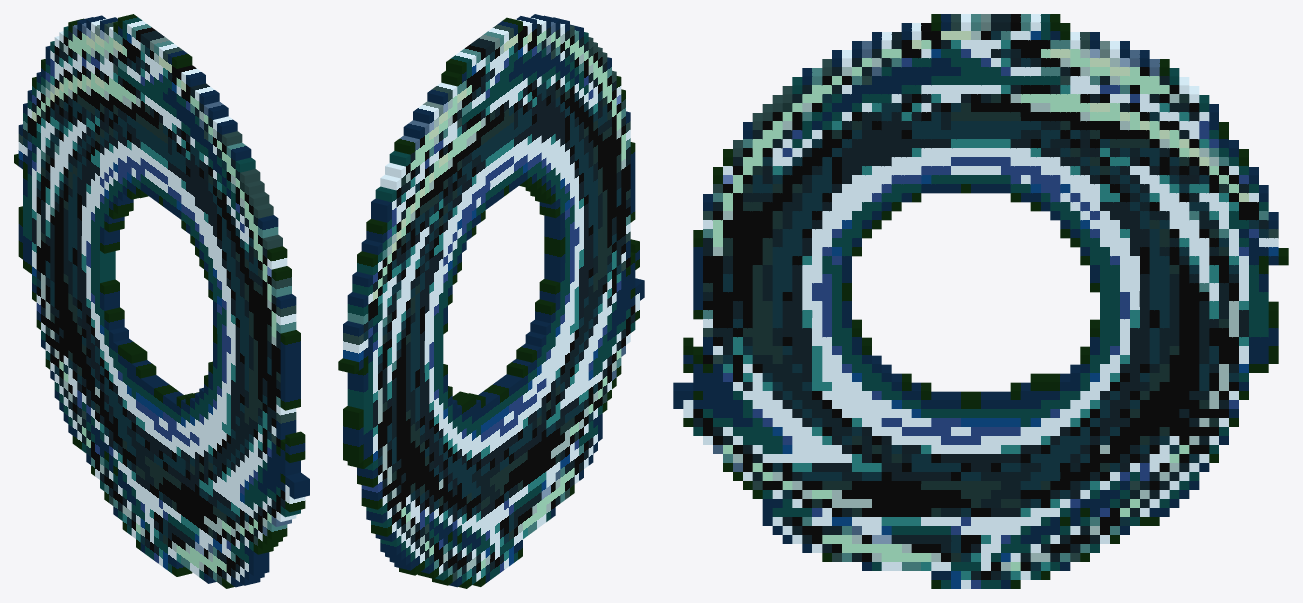
Rendered from 大楼传送门.gltf.
3 renders of one model, left to right at view 1: azimuth 30°, elevation 25°; view 2: azimuth 150°, elevation 25°; view 3: azimuth 270°, elevation 25°, orthographic. The views are drawn at different scales.
Parts seen in each view (by area): view 1: Object; view 2: Object; view 3: Object.
Part boxes in pixels (box(x1,y1,x2,y2)): Object: box(14, 14, 309, 588); Object: box(338, 14, 644, 588); Object: box(673, 14, 1288, 588).
Bounding box in the file's own units: 2 × 63 × 62.
1 material, 1 textured.
